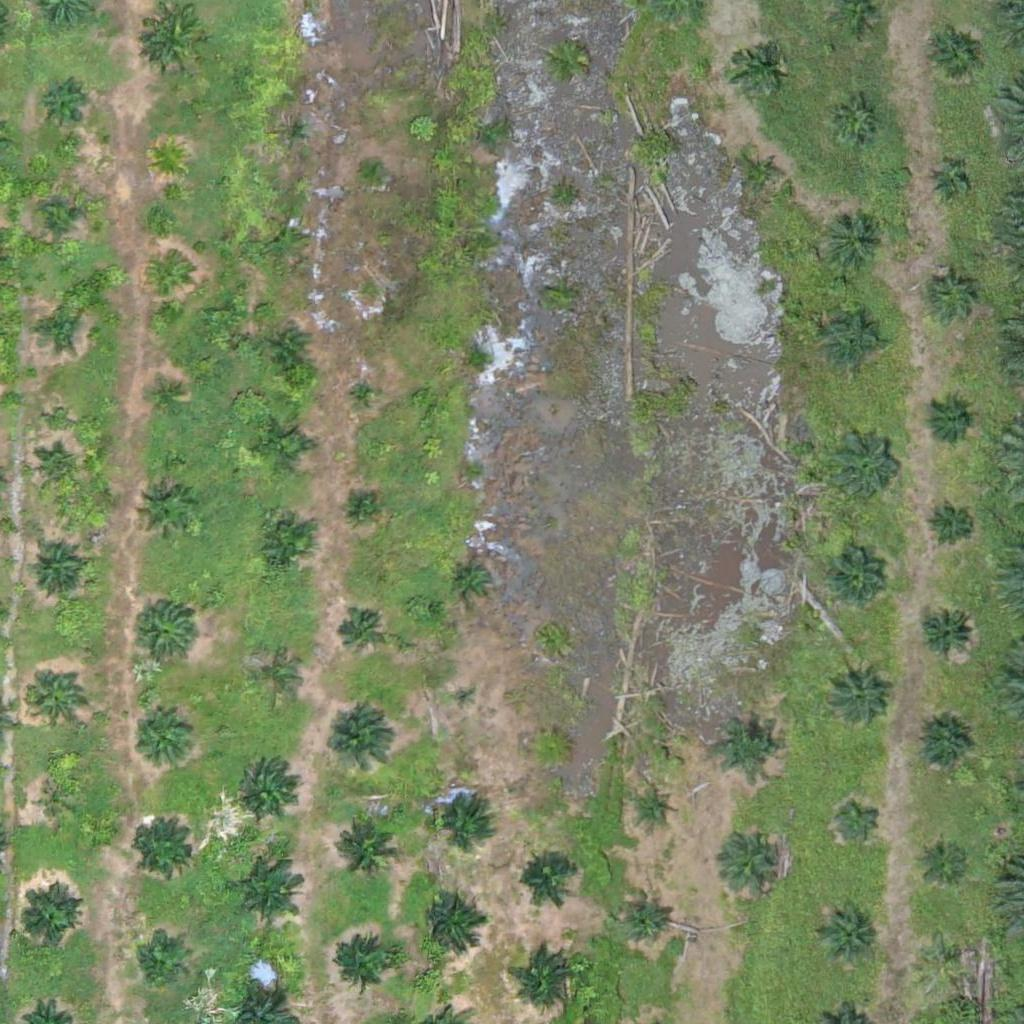Kelapa_Sawit: (326, 936, 401, 1012), (229, 855, 304, 931), (322, 708, 397, 784), (330, 810, 405, 886), (829, 425, 904, 500), (143, 9, 206, 72), (727, 829, 790, 892), (716, 713, 779, 776), (431, 785, 494, 848), (16, 887, 79, 950), (825, 552, 888, 615), (814, 901, 877, 964), (915, 602, 978, 665), (517, 947, 579, 1010), (24, 537, 86, 600), (516, 847, 578, 910), (134, 817, 196, 880), (420, 893, 483, 955), (237, 759, 299, 822), (134, 481, 196, 544), (254, 514, 316, 577), (132, 601, 194, 664), (136, 712, 198, 775), (26, 666, 88, 729), (825, 212, 887, 275), (824, 309, 886, 372), (826, 663, 888, 726), (912, 714, 974, 777), (253, 415, 315, 478), (29, 303, 79, 354), (927, 269, 977, 320), (918, 831, 968, 882), (917, 928, 967, 979), (833, 793, 883, 844), (923, 393, 973, 444), (335, 607, 385, 658), (33, 83, 83, 133), (729, 41, 779, 91), (135, 935, 185, 985), (831, 97, 881, 147), (619, 891, 669, 941), (250, 652, 300, 702), (927, 501, 977, 551), (930, 32, 980, 82), (449, 555, 499, 605), (30, 446, 80, 496), (34, 197, 84, 247), (636, 789, 674, 827), (746, 155, 784, 193), (149, 140, 187, 178), (929, 164, 967, 202), (533, 729, 571, 767), (347, 377, 385, 415), (271, 329, 309, 367), (151, 262, 189, 300), (150, 382, 188, 420), (267, 220, 305, 258), (40, 783, 77, 821), (276, 114, 313, 152), (349, 493, 374, 519), (361, 154, 386, 179), (453, 683, 478, 708)
